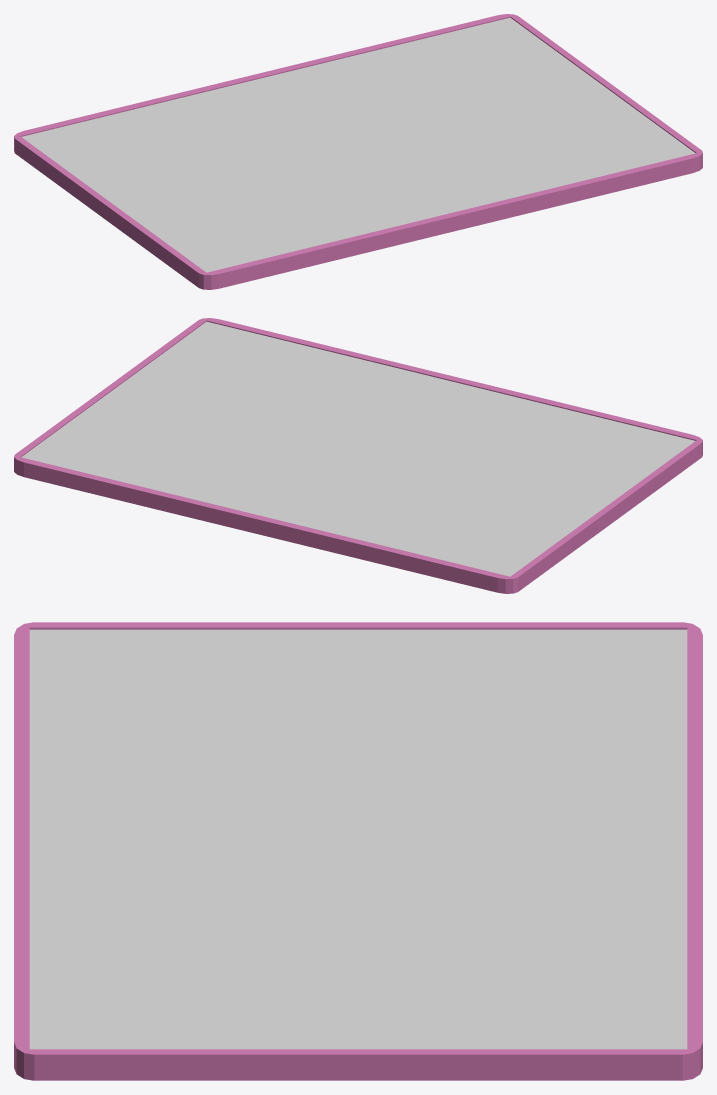
The model's file is 20210512_WGSRND_LEZ_Floor.fbx.
3 views of the same model, one above another, from view 1: azimuth 30°, elevation 25°; view 2: azimuth 150°, elevation 25°; view 3: azimuth 270°, elevation 25° (orthographic). The views are drawn at different scales.
Visible parts, largest first — view 1: Floor; view 2: Floor; view 3: Floor.
Part boxes in pixels (x1,y1,x2,y2): Floor: (14, 14, 702, 289); Floor: (14, 318, 702, 593); Floor: (14, 622, 702, 1080).
Size of the model in its own units: 92.67 by 2.6 by 62.37.
